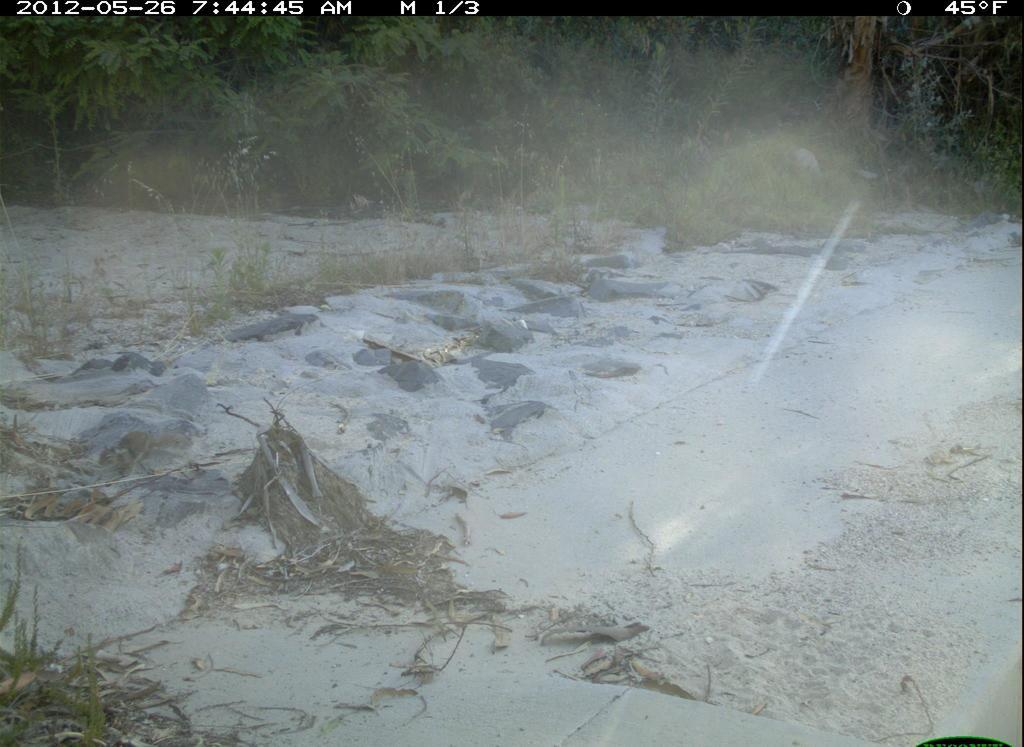squirrel: (89, 425, 197, 481)
